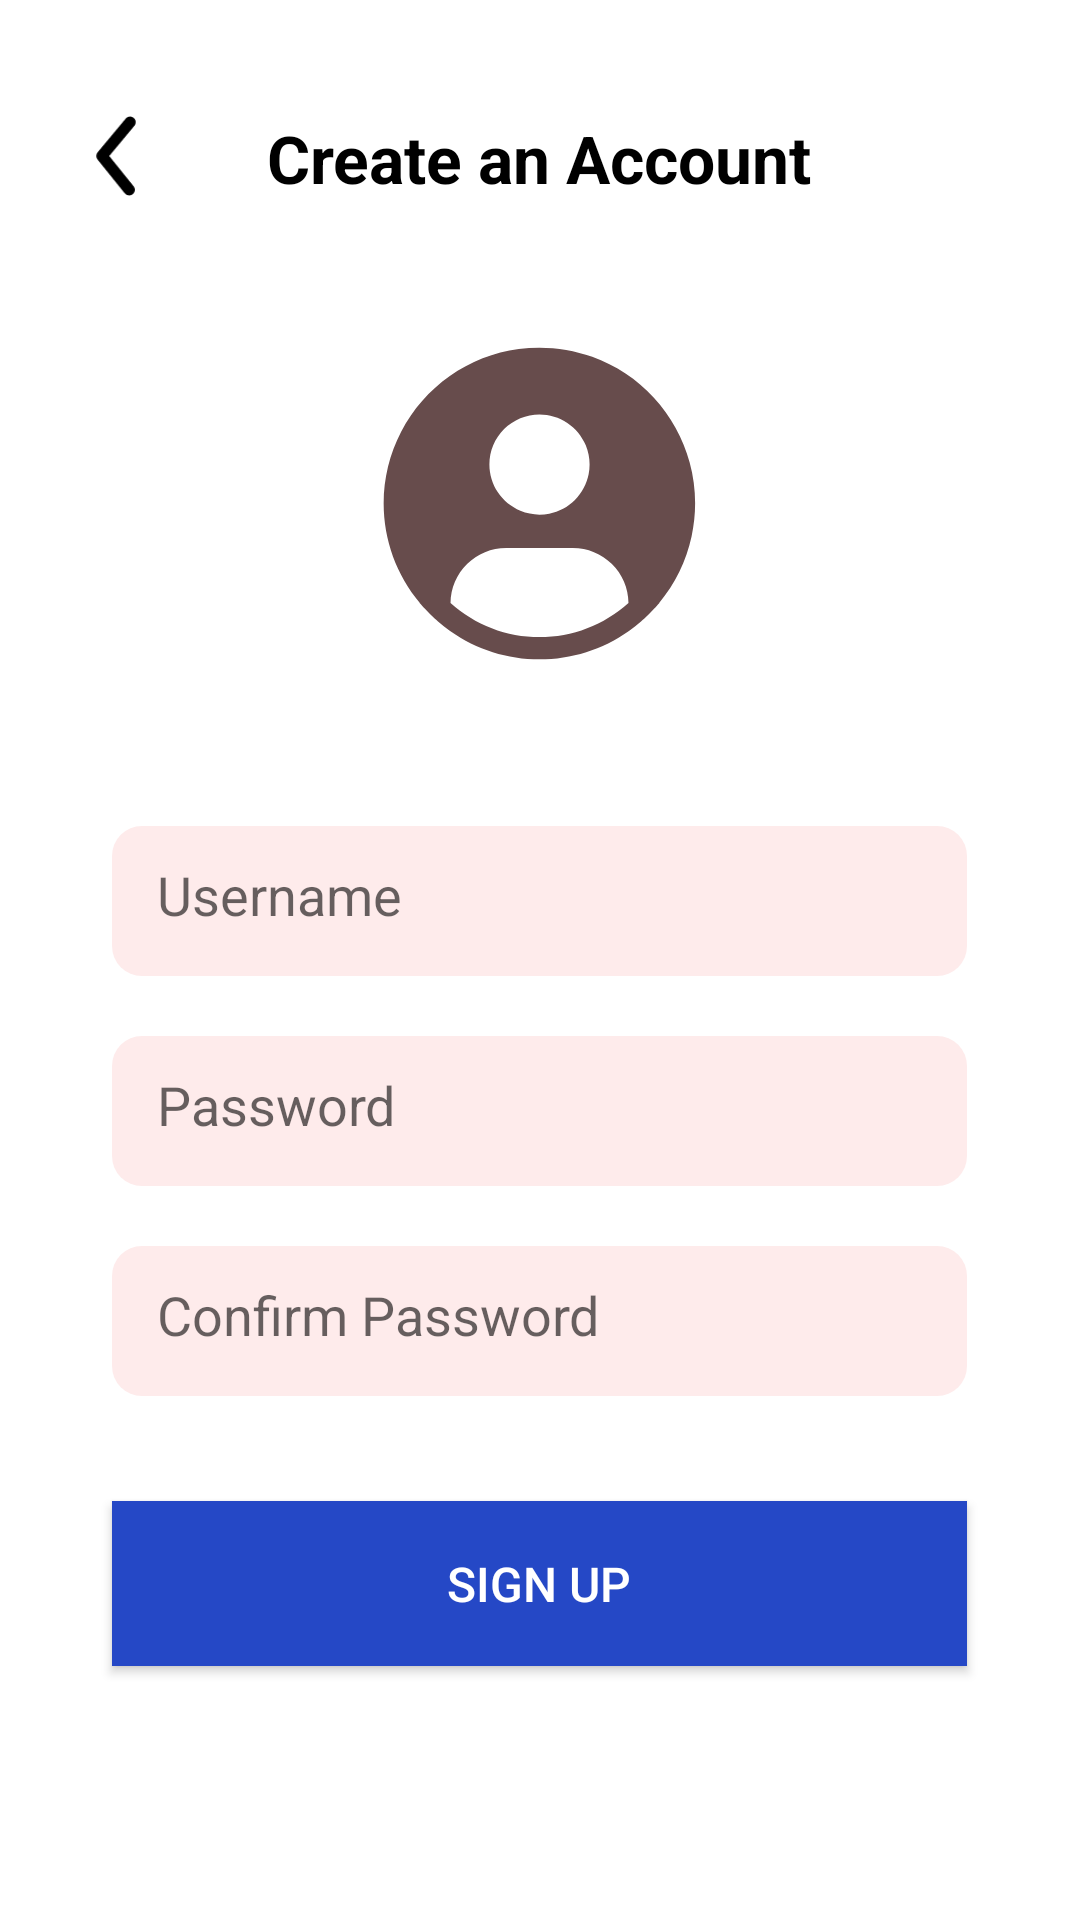

Named icons in this screenshot (1080*1920) and their centers, [x,y]:
back: [116,156]
user: [539,503]
